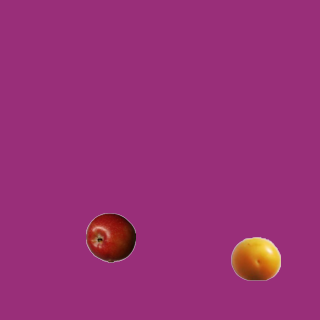Apple Braeburn: (85, 212, 135, 262)
Cherry Wax Yellow: (230, 233, 280, 283)
